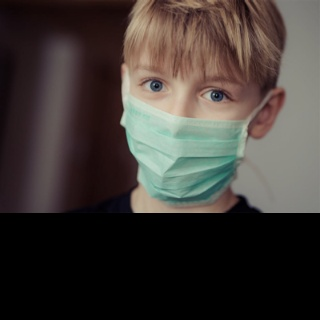with_mask: (123, 62, 250, 197)
